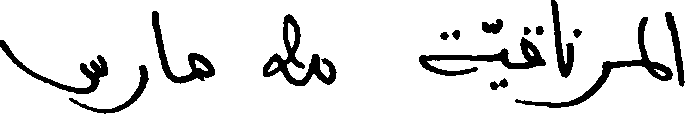0: (311, 51, 337, 85)
2: (261, 12, 312, 87)
ا: (150, 9, 172, 83), (550, 0, 566, 76), (668, 10, 683, 88)
ة: (418, 27, 476, 76)
ر: (573, 26, 610, 105), (110, 63, 147, 112)
س: (0, 38, 108, 113)
ق: (518, 23, 543, 78)
ل: (635, 10, 651, 71)
م: (187, 50, 216, 82), (644, 56, 671, 85)
ن: (564, 26, 582, 71)
ي: (485, 42, 507, 95)
